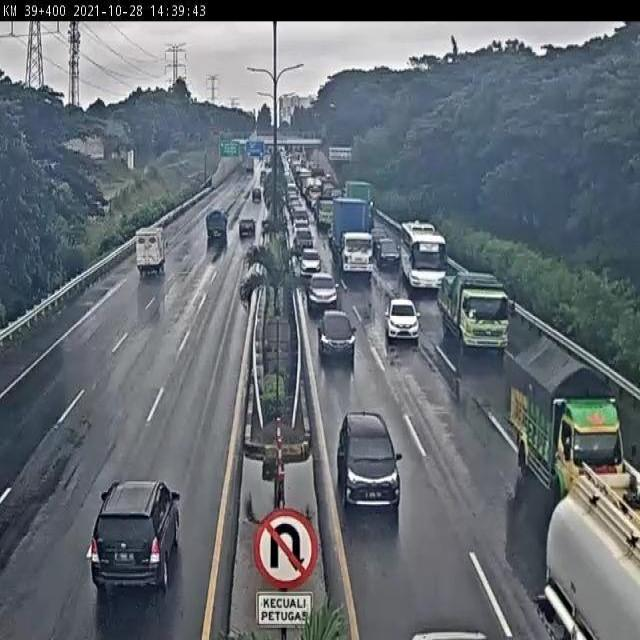big bus: (394, 202, 454, 294)
car: (76, 452, 181, 599), (338, 400, 406, 526), (315, 304, 368, 380), (384, 284, 428, 361), (303, 266, 341, 317), (298, 250, 322, 280), (238, 212, 255, 241), (250, 186, 264, 203)
small truck: (128, 223, 170, 285)
truck-l-: (333, 191, 384, 293)
truck-s-: (505, 316, 630, 508), (435, 260, 521, 367)
